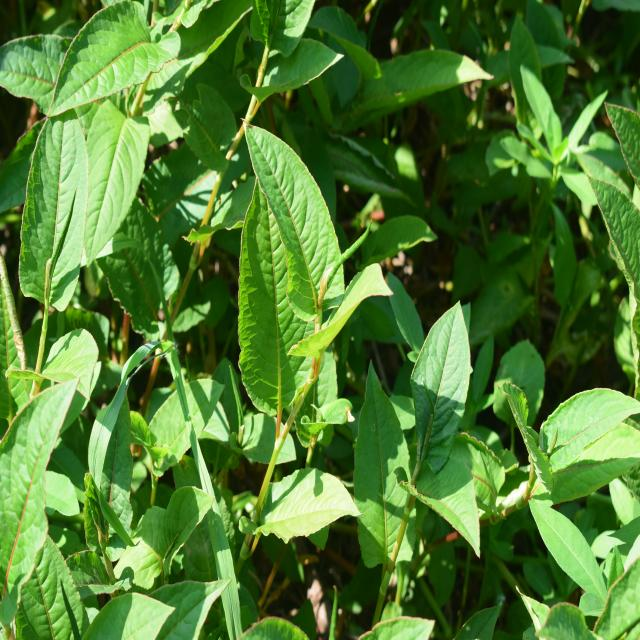Chinese_knotweed: (235, 116, 398, 462)
